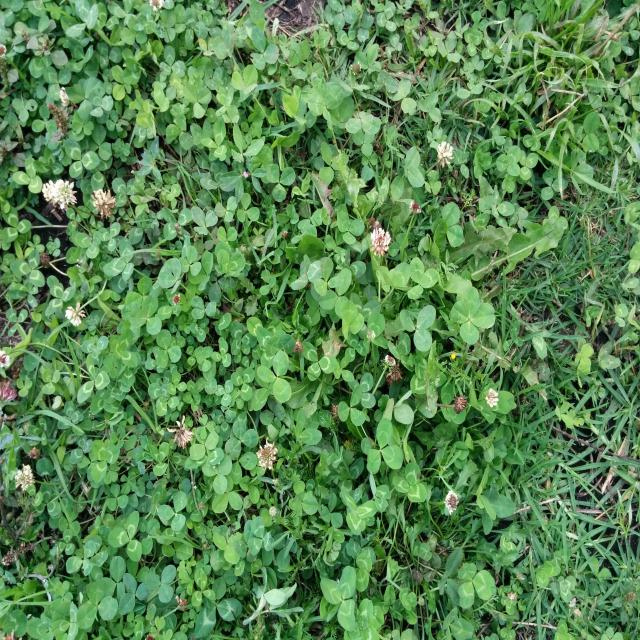Four Leaf Clover: (449, 286, 496, 345)
